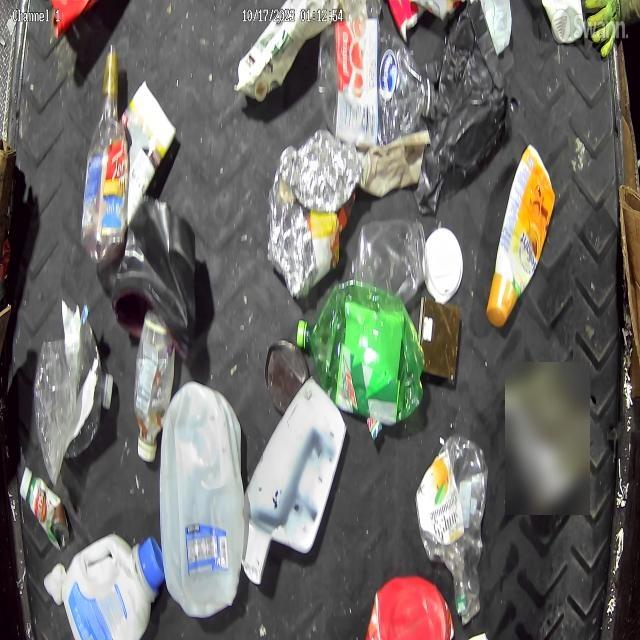milk_jug: (160, 384, 244, 616), (61, 533, 162, 638)
non_white_jug: (487, 144, 555, 327)
plastic_bottle: (318, 27, 436, 147), (416, 435, 487, 622), (134, 310, 175, 462)
